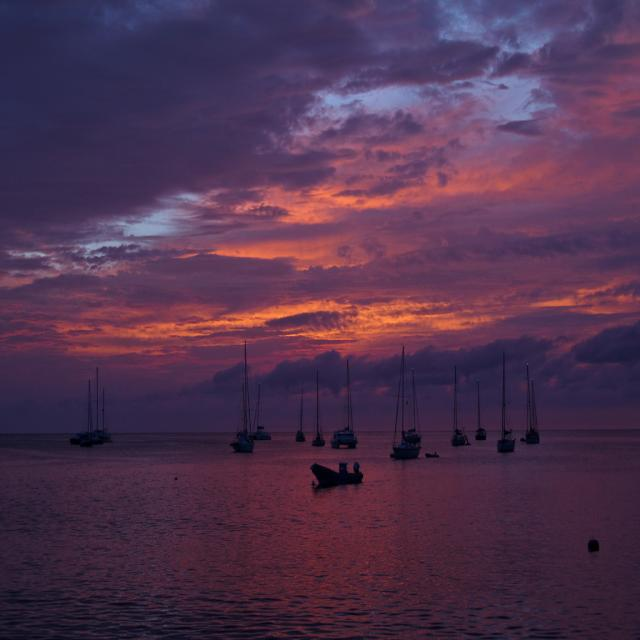Boat: (388, 348, 421, 459), (328, 359, 360, 448), (232, 343, 254, 451), (496, 349, 515, 453), (69, 385, 97, 447), (398, 377, 423, 442), (448, 367, 469, 443), (522, 361, 540, 442), (92, 368, 110, 442), (248, 383, 272, 438), (312, 466, 364, 488), (312, 372, 324, 447), (473, 380, 487, 438), (296, 381, 304, 442)
